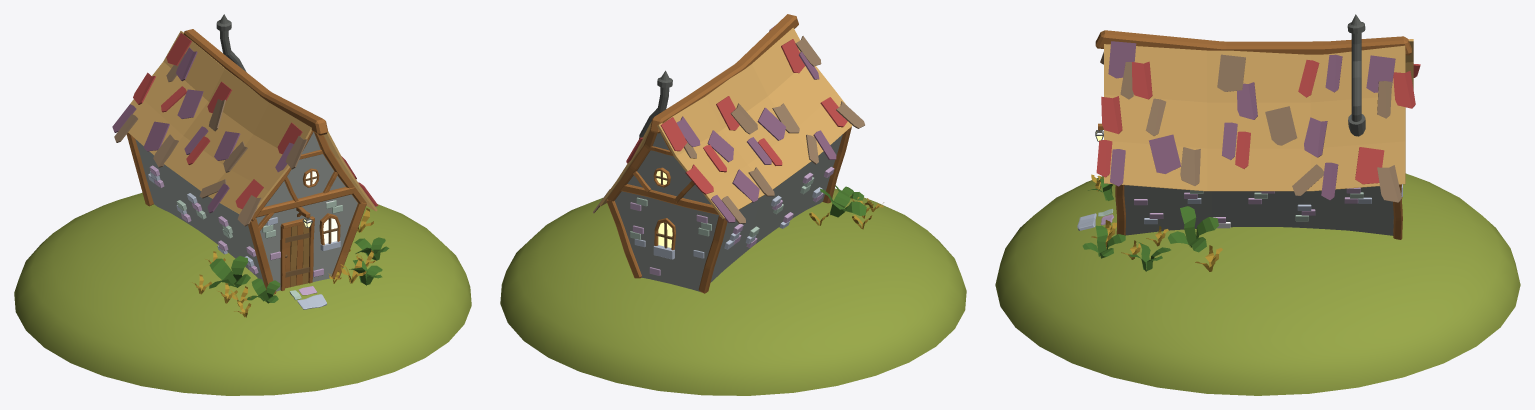
File: cottage.glb
3 views of the same model, side by side, from view 1: azimuth 30°, elevation 25°; view 2: azimuth 150°, elevation 25°; view 3: azimuth 270°, elevation 25° (orthographic). The views are drawn at different scales.
Parts seen in each view (by area): view 1: Sphere_120, Plane.003_27, Plane_24, Plane.004_28, Cube.024_23, Cube.002_4, Plane.017_123, Cube_0, Cube.001_3, Cube.003_5, Cube.013_15, Plane.001_25 (+8 smaller); view 2: Sphere_120, Plane.003_27, Plane.005_29, Plane.004_28, Cube.024_23, Cube.014_16, Cube.013_15, Cube.012_14, Cube.015_17, Plane.017_123, Cube.001_3, Cylinder_117 (+8 smaller); view 3: Sphere_120, Plane.001_25, Plane.002_26, Cube.024_23, Cylinder_117, Plane.018_124, Cube.114_172, Cube.125_183, Cube.112_170, Cube.121_179, Cube.109_167, Cube.118_176 (+19 smaller).
Part boxes in pixels (bbox=[...]): Sphere_120: bbox=[14, 192, 471, 395]; Plane.003_27: bbox=[128, 31, 311, 214]; Plane_24: bbox=[256, 132, 357, 291]; Plane.004_28: bbox=[135, 139, 263, 282]; Cube.024_23: bbox=[183, 29, 327, 135]; Cube.002_4: bbox=[256, 187, 354, 217]; Plane.017_123: bbox=[209, 256, 250, 288]; Cube_0: bbox=[331, 202, 366, 279]; Cube.001_3: bbox=[248, 218, 276, 294]; Cube.003_5: bbox=[314, 132, 366, 203]; Cube.013_15: bbox=[126, 132, 153, 206]; Plane.001_25: bbox=[323, 131, 377, 211]; Sphere_120: bbox=[500, 188, 966, 395]; Plane.003_27: bbox=[657, 27, 852, 218]; Plane.005_29: bbox=[614, 133, 718, 292]; Plane.004_28: bbox=[710, 134, 842, 282]; Cube.024_23: bbox=[650, 14, 798, 133]; Cube.014_16: bbox=[620, 184, 719, 215]; Cube.013_15: bbox=[698, 215, 727, 293]; Cube.012_14: bbox=[606, 199, 641, 278]; Cube.015_17: bbox=[607, 129, 657, 201]; Plane.017_123: bbox=[820, 189, 866, 217]; Cube.001_3: bbox=[822, 126, 851, 203]; Cylinder_117: bbox=[639, 70, 672, 138]; Sphere_120: bbox=[995, 173, 1520, 395]; Plane.001_25: bbox=[1104, 44, 1405, 191]; Plane.002_26: bbox=[1124, 185, 1393, 235]; Cube.024_23: bbox=[1095, 30, 1411, 55]; Cylinder_117: bbox=[1347, 14, 1365, 136]; Plane.018_124: bbox=[1168, 206, 1218, 252]; Cube.114_172: bbox=[1217, 54, 1245, 91]; Cube.125_183: bbox=[1149, 134, 1180, 173]; Cube.112_170: bbox=[1265, 106, 1297, 145]; Cube.121_179: bbox=[1355, 147, 1384, 184]; Cube.109_167: bbox=[1366, 55, 1395, 92]; Cube.118_176: bbox=[1108, 41, 1136, 78].
Size of the model in its own units: 10.02 by 5.99 by 10.02.
